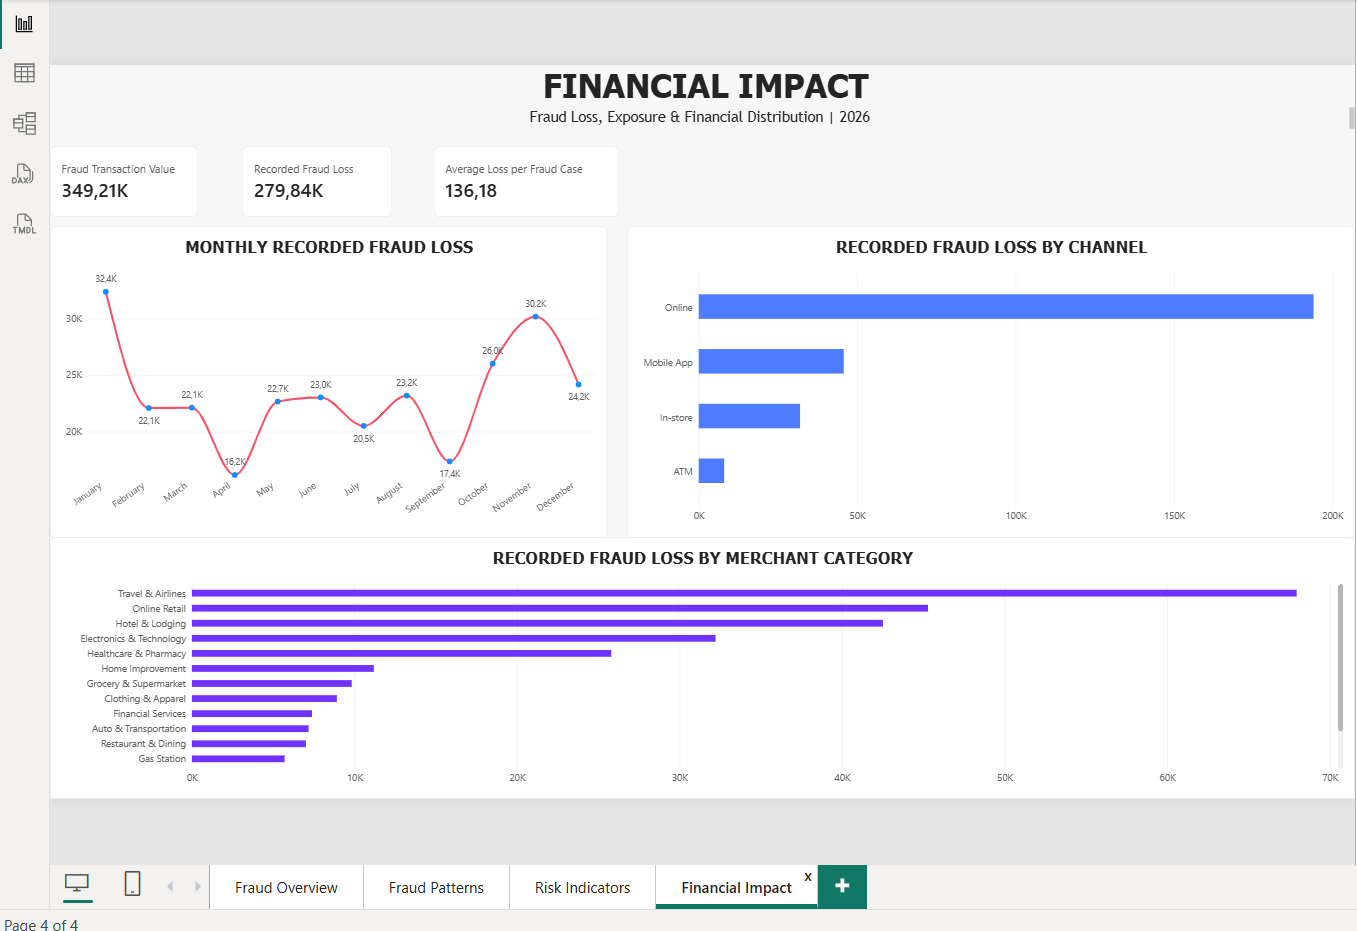

Layout of this report page (visuals, bound fields, positions):
{"tool":"powerbi","page":{"name":"Financial Impact","canvas":[1920,1080],"ordinal":3},"visuals":[{"type":"textbox","box":[9.2,0,1911.2,99.3],"z":0},{"type":"textbox","box":[0,62.5,1920.4,36.8],"z":1},{"type":"cardVisual","fields":{"Data":["Transactions.Fraud Transaction Value"]},"box":[0,119.6,217.1,104.8],"z":2},{"type":"cardVisual","fields":{"Data":["Transactions.Recorded Fraud Loss"]},"box":[283.3,119.6,220.7,104.8],"z":3},{"type":"cardVisual","fields":{"Data":["Transactions.Average Loss per Fraud Case"]},"box":[564.7,119.6,272.2,104.8],"z":4},{"type":"lineChart","title":"MONTHLY RECORDED FRAUD LOSS","fields":{"Category":["Transactions.transaction_month_name"],"Y":["Transactions.Recorded Fraud Loss"]},"box":[0,237.3,820.4,458],"z":5},{"type":"barChart","title":"RECORDED FRAUD LOSS BY MERCHANT CATEGORY","fields":{"Category":["Transactions.merchant_category"],"Y":["Transactions.Recorded Fraud Loss"]},"box":[0,695.3,1920.4,384.4],"z":6},{"type":"clusteredBarChart","title":"RECORDED FRAUD LOSS BY CHANNEL","fields":{"Category":["Transactions.transaction_channel"],"Y":["Transactions.Recorded Fraud Loss"]},"box":[849.8,237.3,1070.6,458],"z":7}]}

Visuals, with their boxes on the page's 1920x1080 design canvas (x1, y1, x2, y2). These are canvas units, not pixel positions in the 1357x931 screenshot, which may show the page scaled, cropped or inside an application window:
textbox: left=9, top=0, right=1920, bottom=99
textbox: left=0, top=62, right=1920, bottom=99
cardVisual - Transactions.Fraud Transaction Value: left=0, top=120, right=217, bottom=224
cardVisual - Transactions.Recorded Fraud Loss: left=283, top=120, right=504, bottom=224
cardVisual - Transactions.Average Loss per Fraud Case: left=565, top=120, right=837, bottom=224
"MONTHLY RECORDED FRAUD LOSS" lineChart: left=0, top=237, right=820, bottom=695
"RECORDED FRAUD LOSS BY MERCHANT CATEGORY" barChart: left=0, top=695, right=1920, bottom=1080
"RECORDED FRAUD LOSS BY CHANNEL" clusteredBarChart: left=850, top=237, right=1920, bottom=695
